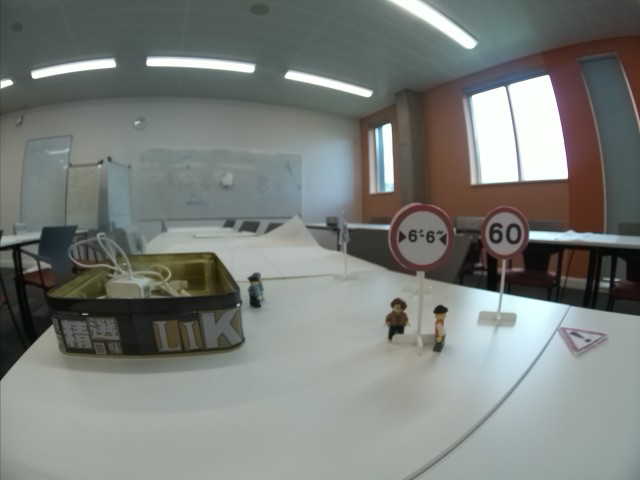60mph: (482, 206, 532, 258)
6ft6: (389, 204, 455, 273)
Lego Man: (430, 302, 449, 353), (388, 299, 410, 343), (246, 273, 268, 308)
Warning: (558, 324, 608, 355)
